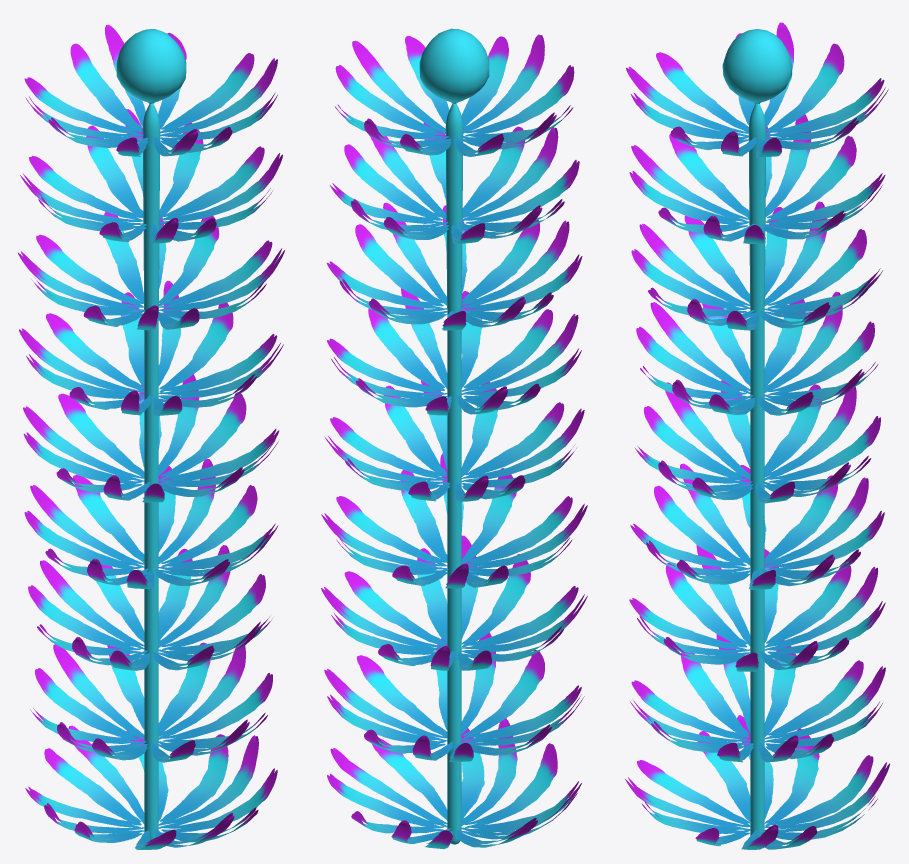
Rendered from OceanPlant.fbx.
3 views of the same model, side by side, from view 1: azimuth 30°, elevation 25°; view 2: azimuth 150°, elevation 25°; view 3: azimuth 270°, elevation 25° (orthographic).
Visible parts, largest first — view 1: Plant.002; view 2: Plant.002; view 3: Plant.002.
Boxes of the visible parts, bbox=[...] form: Plant.002: bbox=[17, 24, 284, 849]; Plant.002: bbox=[321, 28, 587, 849]; Plant.002: bbox=[625, 22, 889, 849].
Bounding box in the file's own units: 5.75 × 18.78 × 5.75.
2 materials, 1 textured.
